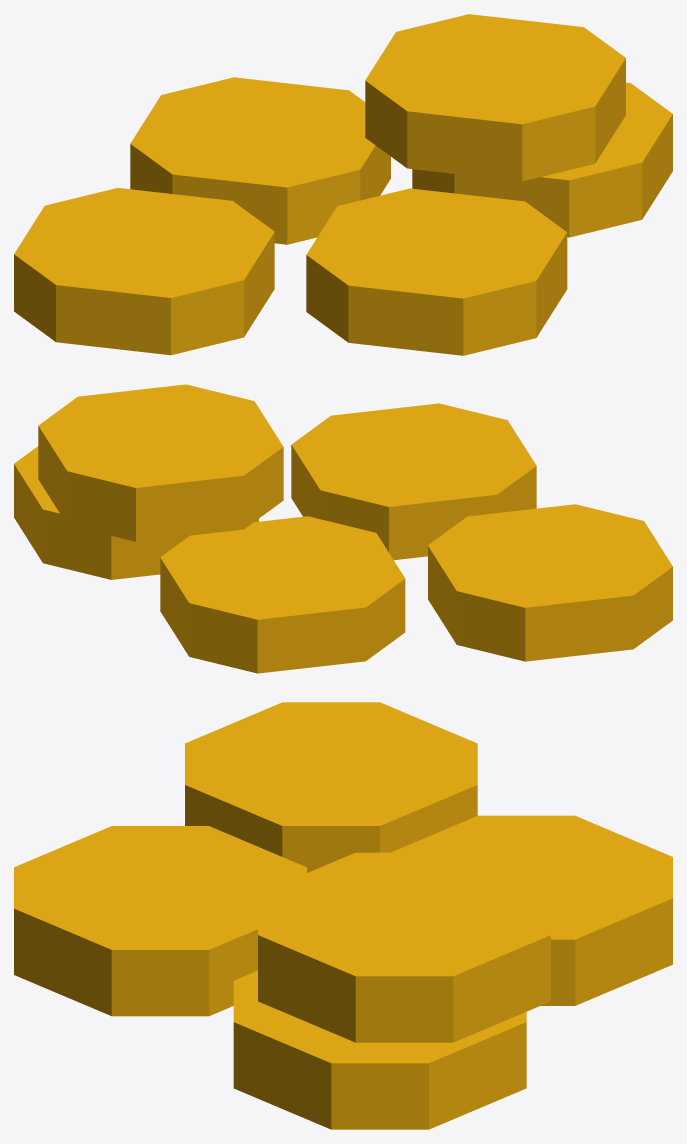
3 renders of one model, top to bottom at view 1: azimuth 30°, elevation 25°; view 2: azimuth 150°, elevation 25°; view 3: azimuth 270°, elevation 25°, orthographic. The views are drawn at different scales.
Visible parts, largest first — view 1: 2488; view 2: 2488; view 3: 2488.
Boxes of the visible parts, x1=… form: 2488: x1=14, y1=14, x2=672, y2=355; 2488: x1=14, y1=384, x2=672, y2=673; 2488: x1=14, y1=702, x2=672, y2=1129.
Size of the model in its own units: 35 by 6 by 27.
